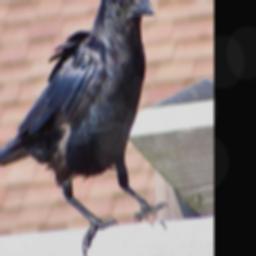Crow: (0, 0, 170, 256)
